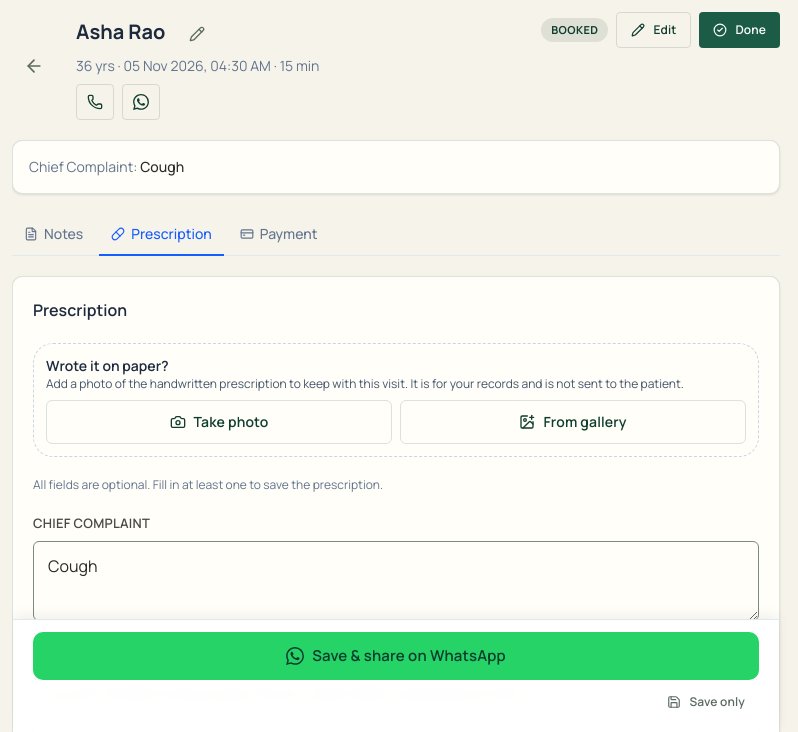
Test case: Save & share on the appointment page › says what is missing instead of failing quietly (the number itself is not shown)
Click the button "Prescription": (162, 235) [99,214,224,256]
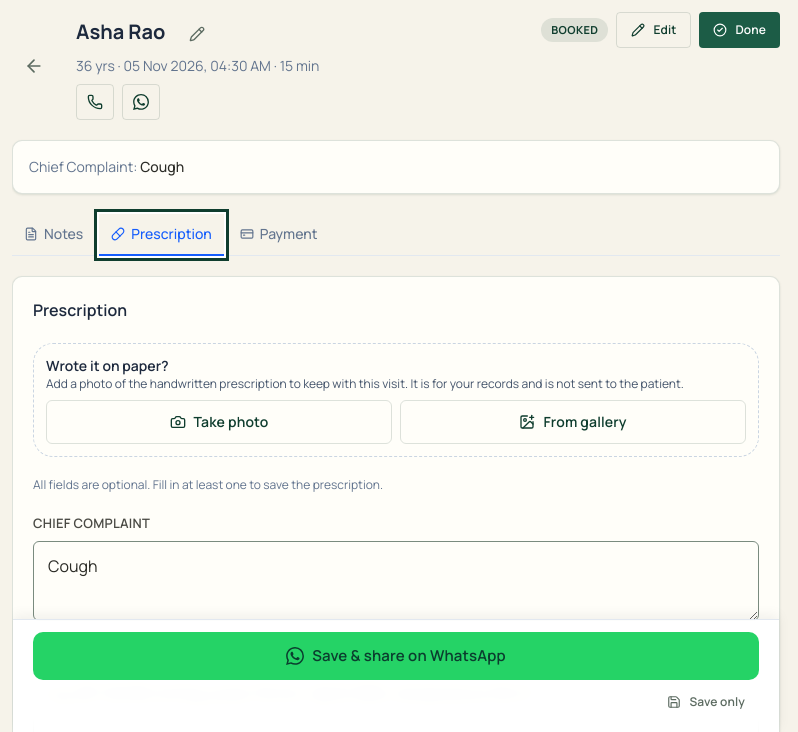
Click the button "Save & share on WhatsApp": (396, 656) [33,632,759,680]
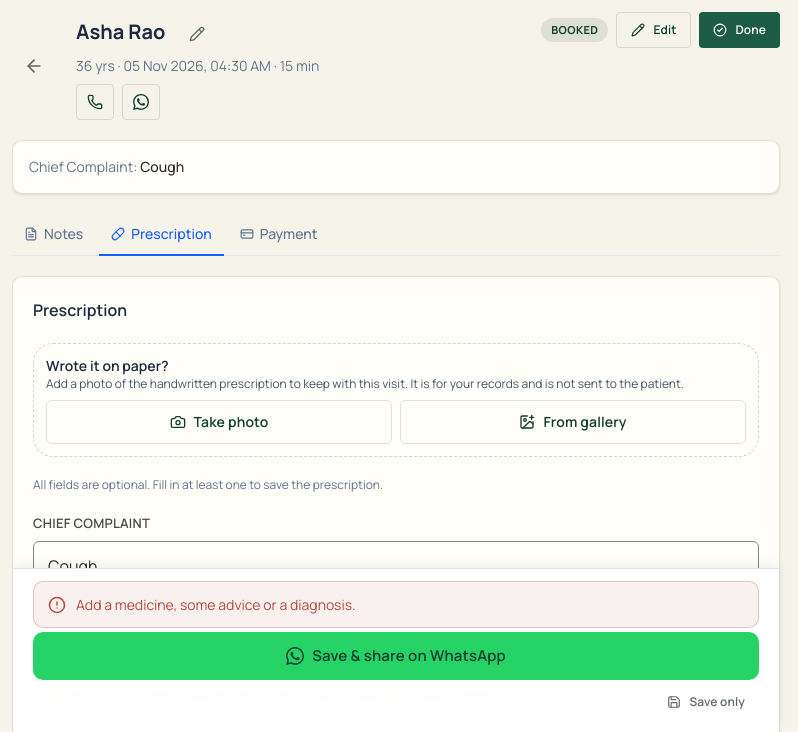
Now the text "Add a medicine, some advice or a diagnosis." is shown, box [76,594,356,615]
